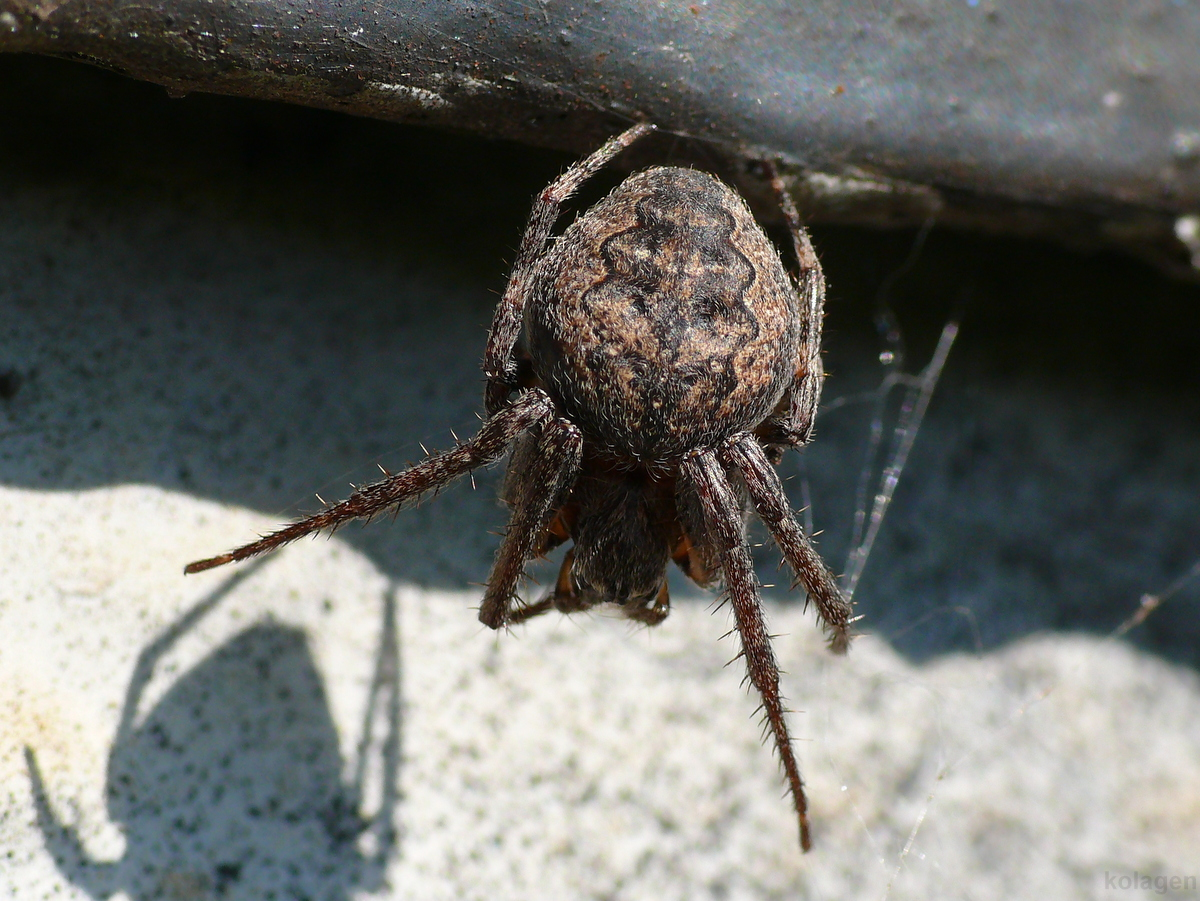spider: (160, 84, 967, 866)
